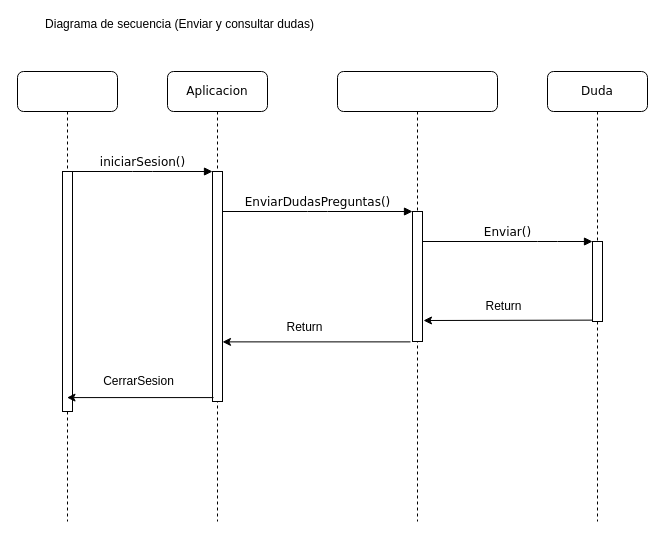
The diagram is 665 pixels wide and 539 high, and some of its shapes have lost their labels. The box of each missing label's shape, as (x1, y1, x2, y2) in pixels:
EnviarYConsultarDudas: (336, 70, 498, 522)
Usuario: (16, 70, 118, 522)
